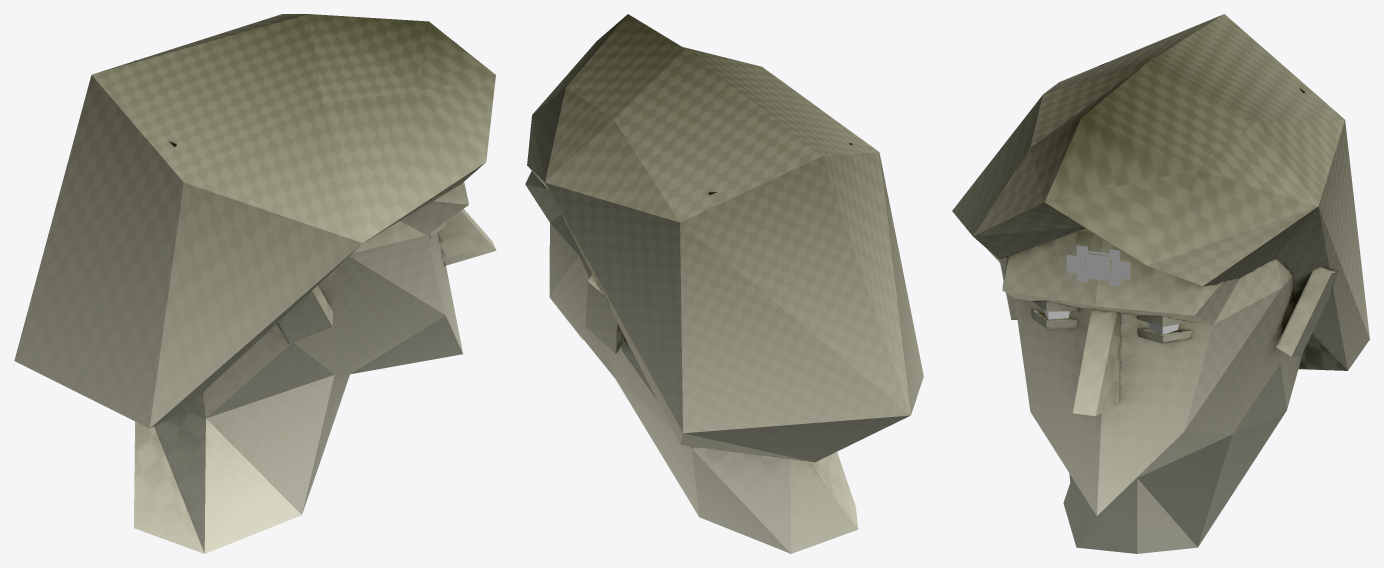
Rendered from edgeEditor_bust.fbx.
The picture shows the model from 3 angles, left to right: view 1: azimuth 30°, elevation 25°; view 2: azimuth 150°, elevation 25°; view 3: azimuth 270°, elevation 25°; orthographic projection. The views are drawn at different scales.
Visible parts, largest first — view 1: head; view 2: head; view 3: head, mode_face, mode_edge, mode_corner.
Part boxes in pixels (x1=…): head: x1=14, y1=14, x2=496, y2=553; head: x1=525, y1=14, x2=923, y2=553; head: x1=952, y1=14, x2=1369, y2=553; mode_face: x1=1076, y1=245, x2=1120, y2=286; mode_edge: x1=1066, y1=255, x2=1130, y2=279; mode_corner: x1=1085, y1=254, x2=1109, y2=278.
Size of the model in its own units: 295 by 314 by 231.
Materials: 1 (1 with a texture image).
